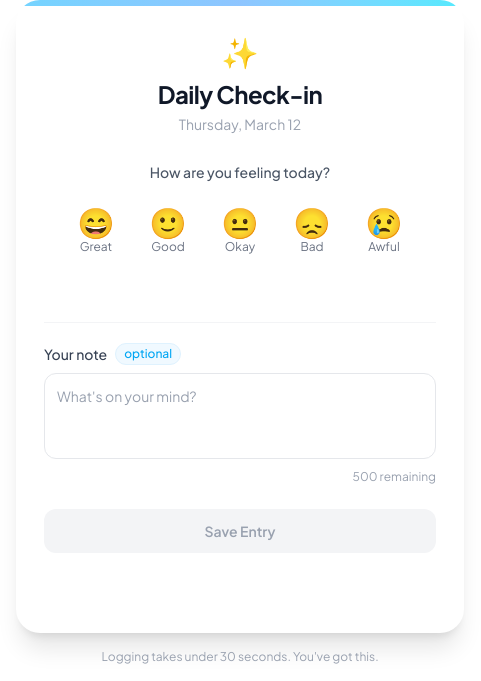
MoodPicker (log entry form) › mood selection › enables the save button once a mood is selected
Click the button with aria-label "Select mood: Awful" at (384, 230), box [352, 198, 416, 262]
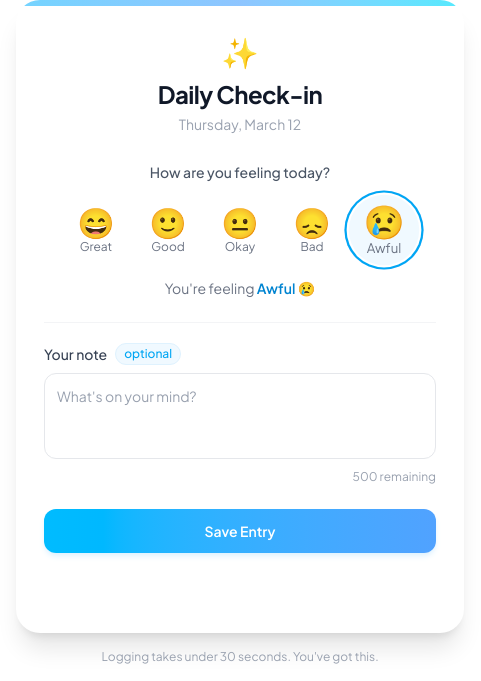
Check: the button "Save Entry" is enabled, box [44, 509, 436, 553]
